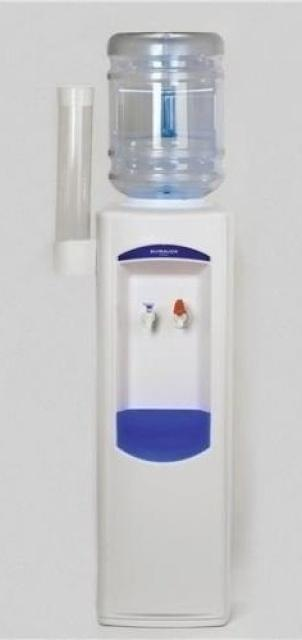Dispenser: (94, 30, 232, 628)
